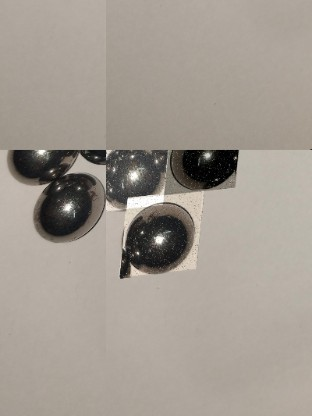ironball: (122, 194, 207, 279), (31, 170, 106, 249), (106, 149, 171, 214), (166, 149, 243, 198), (1, 150, 82, 184)
